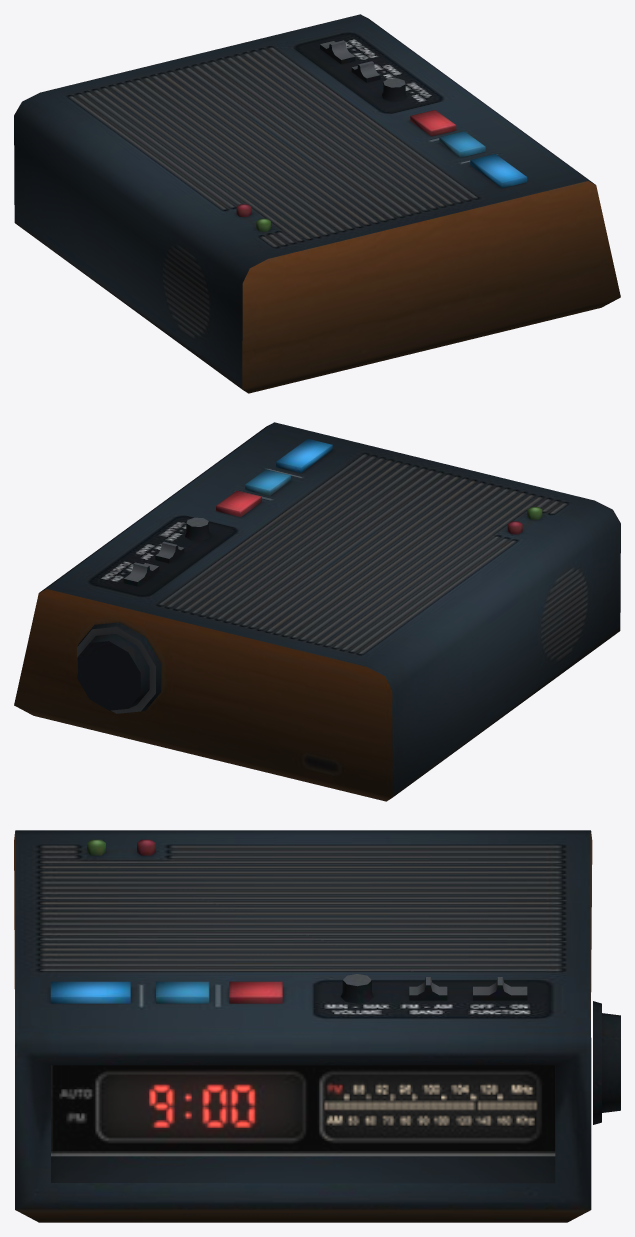
Rendered from clock-radio.glb.
The picture shows the model from 3 angles, top to bottom: view 1: azimuth 30°, elevation 25°; view 2: azimuth 150°, elevation 25°; view 3: azimuth 270°, elevation 25°; orthographic projection. The views are drawn at different scales.
Visible parts, largest first — view 1: Object_2; view 2: Object_2; view 3: Object_2.
Part boxes in pixels (<box>): Object_2: <box>14,14,620,393</box>; Object_2: <box>14,422,620,801</box>; Object_2: <box>14,830,620,1222</box>.
Size of the model in its own units: 1.92 by 0.7406 by 2.11.
Materials: 1 (1 with a texture image).
